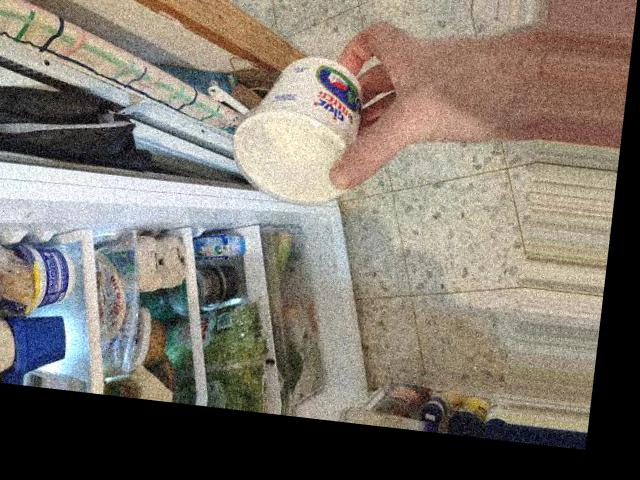cotage: (240, 56, 364, 184)
